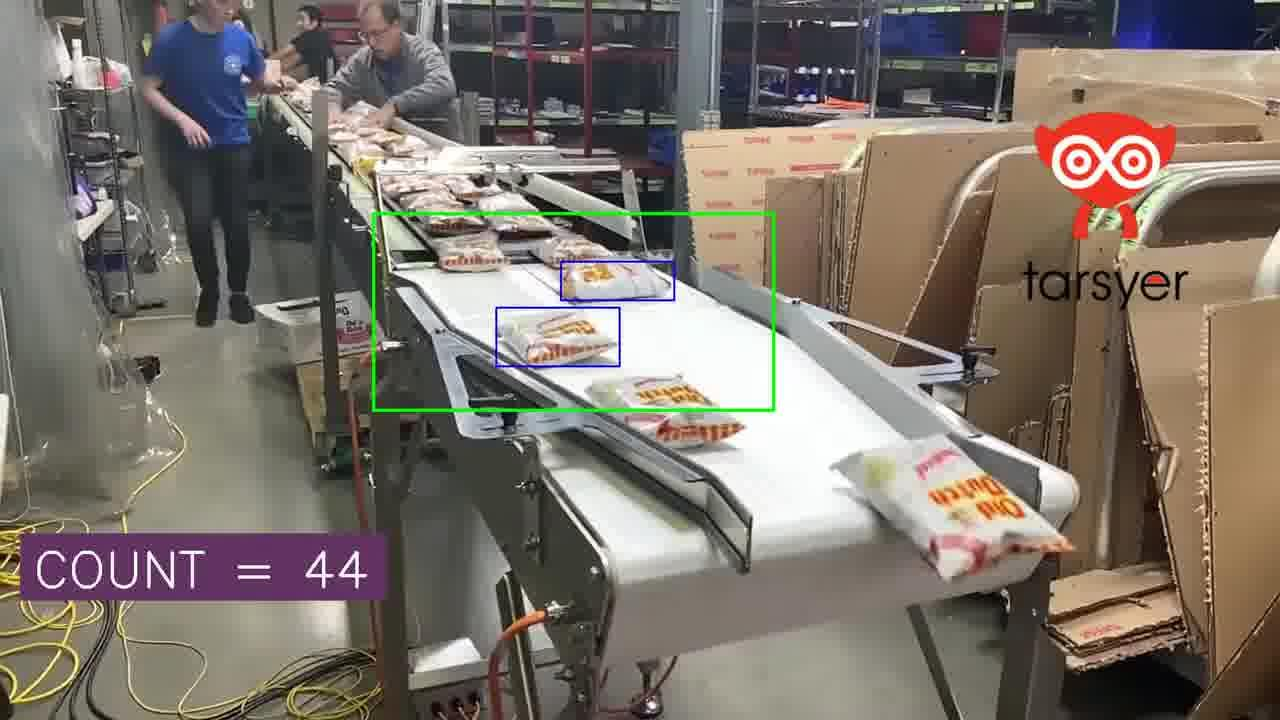Snack: (833, 435, 1072, 580), (587, 376, 744, 448), (499, 310, 616, 364), (560, 262, 669, 299), (399, 189, 486, 234), (475, 192, 554, 236), (429, 232, 508, 271), (532, 233, 613, 267), (441, 175, 502, 201), (399, 187, 464, 211), (380, 174, 444, 198), (383, 135, 430, 157), (378, 157, 430, 176), (365, 129, 404, 150), (345, 101, 377, 119), (329, 127, 358, 143)
